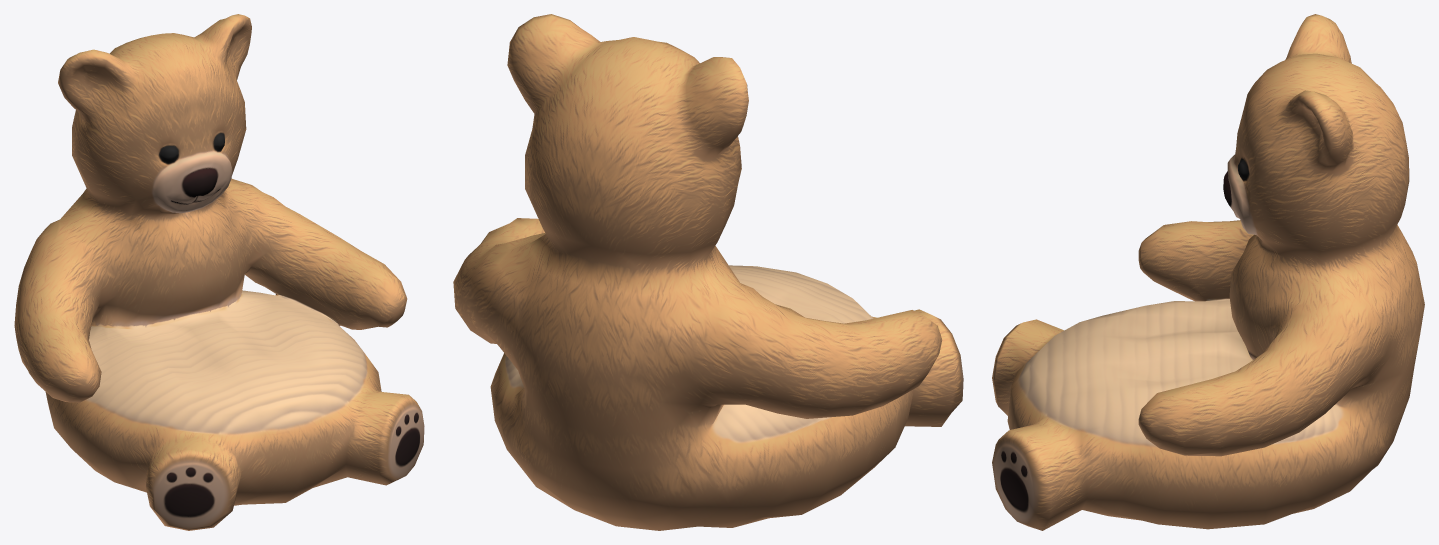
3 renders of one model, left to right at view 1: azimuth 30°, elevation 25°; view 2: azimuth 150°, elevation 25°; view 3: azimuth 270°, elevation 25°, orthographic. The views are drawn at different scales.
Visible parts, largest first — view 1: Cute_Bear_Sofa___LP_____Stylized__; view 2: Cute_Bear_Sofa___LP_____Stylized__; view 3: Cute_Bear_Sofa___LP_____Stylized__.
Boxes of the visible parts, x1,y1,x2,y2 form: Cute_Bear_Sofa___LP_____Stylized__: (14,14,424,530); Cute_Bear_Sofa___LP_____Stylized__: (453,14,963,530); Cute_Bear_Sofa___LP_____Stylized__: (992,14,1424,530).
Bounding box in the file's own units: 0.0845 × 0.0888 × 0.0802.
Materials: 1 (1 with a texture image).
